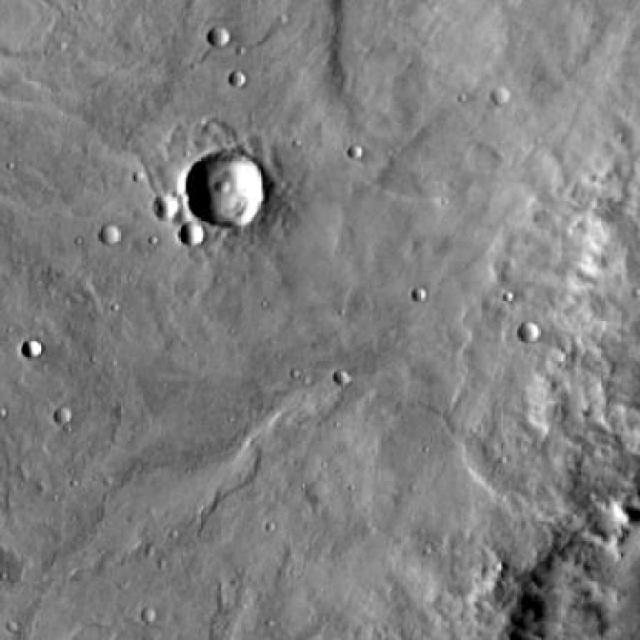crater: (190, 159, 270, 235), (0, 0, 54, 62), (182, 229, 208, 254), (160, 202, 185, 224), (211, 31, 234, 52), (522, 329, 544, 349), (28, 343, 48, 362), (103, 230, 123, 248), (53, 408, 70, 426), (490, 93, 508, 109)
